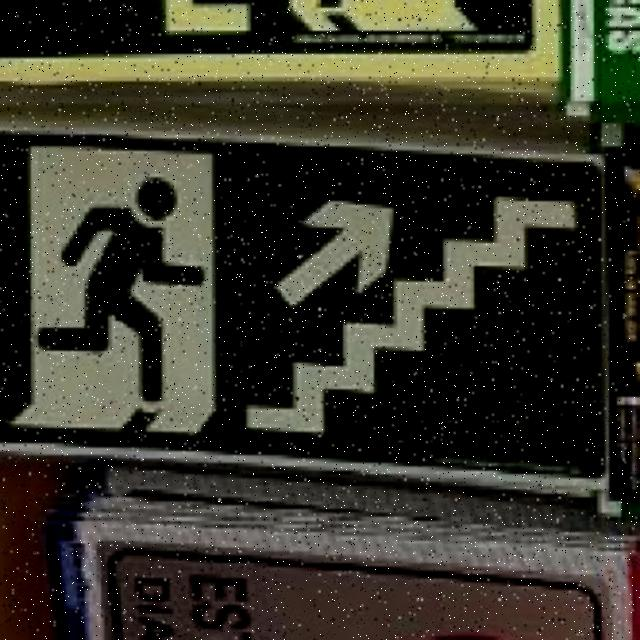emergency_exit: (1, 130, 613, 497)
